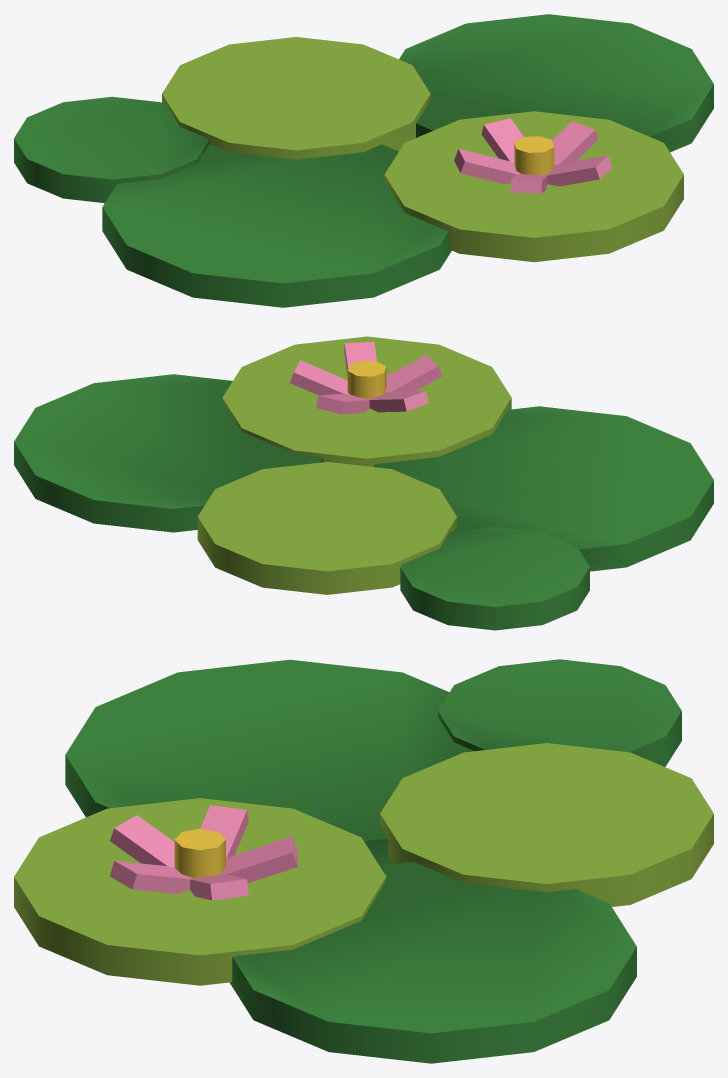
File: Nature__lily_pad.glb
The picture shows the model from 3 angles, top to bottom: view 1: azimuth 30°, elevation 25°; view 2: azimuth 150°, elevation 25°; view 3: azimuth 270°, elevation 25°; orthographic projection. The views are drawn at different scales.
Parts seen in each view (by area): view 1: lily_pad_mesh; view 2: lily_pad_mesh; view 3: lily_pad_mesh.
Part boxes in pixels (bbox=[...]): lily_pad_mesh: bbox=[14, 14, 713, 307]; lily_pad_mesh: bbox=[14, 336, 713, 630]; lily_pad_mesh: bbox=[14, 659, 713, 1063].
Bounding box in the file's own units: 0.695 × 0.065 × 0.545.
